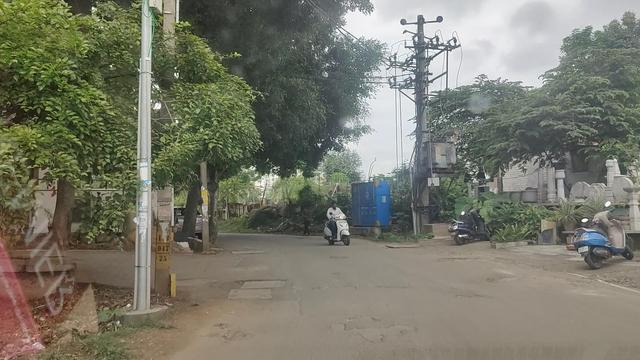LMV: (326, 201, 352, 242)
RoadDamages: (336, 311, 409, 347), (227, 276, 286, 301)
